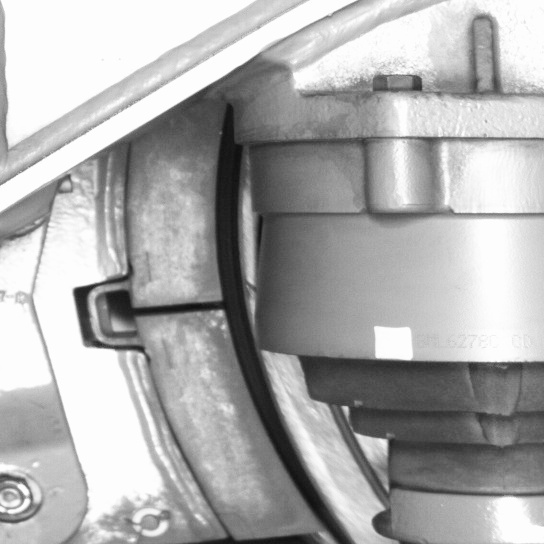KnifeSwitch: (128, 138, 355, 540)
